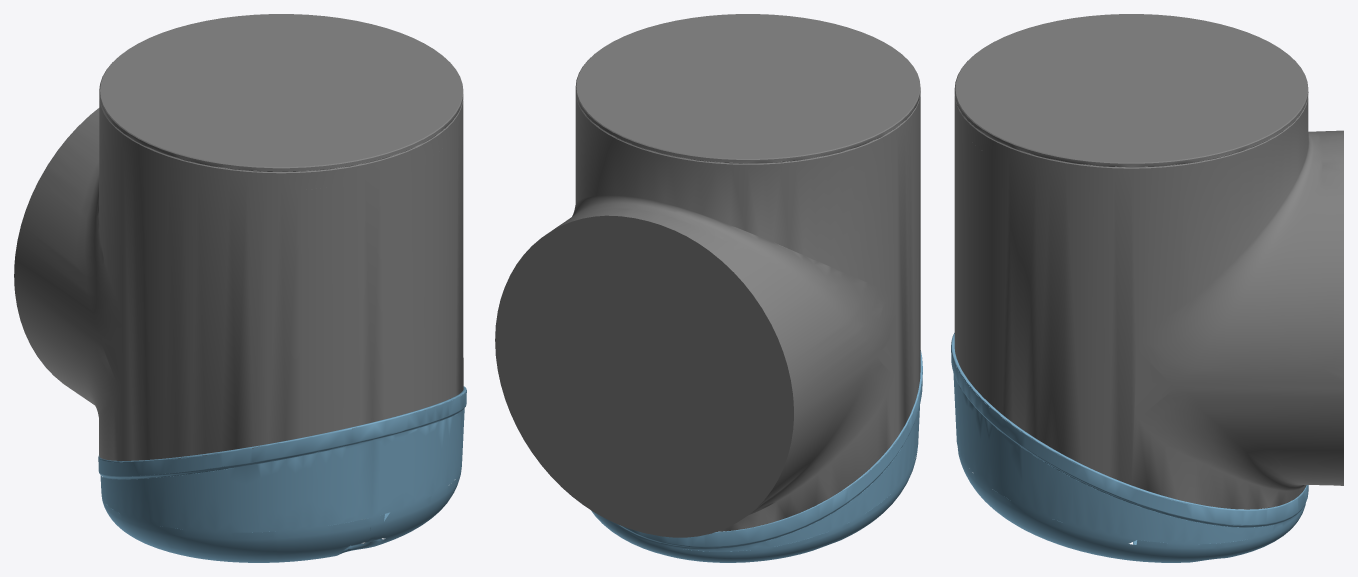
3 views of the same model, side by side, from view 1: azimuth 30°, elevation 25°; view 2: azimuth 150°, elevation 25°; view 3: azimuth 270°, elevation 25° (orthographic). The views are drawn at different scales.
Parts seen in each view (by area): view 1: /node-shape0-name/shape0_002-mesh/0, /node-shape1-name/shape1_002-mesh/0; view 2: /node-shape0-name/shape0_002-mesh/0, /node-shape1-name/shape1_002-mesh/0; view 3: /node-shape0-name/shape0_002-mesh/0, /node-shape1-name/shape1_002-mesh/0.
Part boxes in pixels (<box>): /node-shape0-name/shape0_002-mesh/0: <box>14,14,463,460</box>; /node-shape1-name/shape1_002-mesh/0: <box>98,386,466,562</box>; /node-shape0-name/shape0_002-mesh/0: <box>495,14,920,537</box>; /node-shape1-name/shape1_002-mesh/0: <box>591,350,922,562</box>; /node-shape0-name/shape0_002-mesh/0: <box>954,14,1343,509</box>; /node-shape1-name/shape1_002-mesh/0: <box>951,333,1308,562</box>.
Bounding box in the file's own units: 0.091 × 0.1188 × 0.0999.
